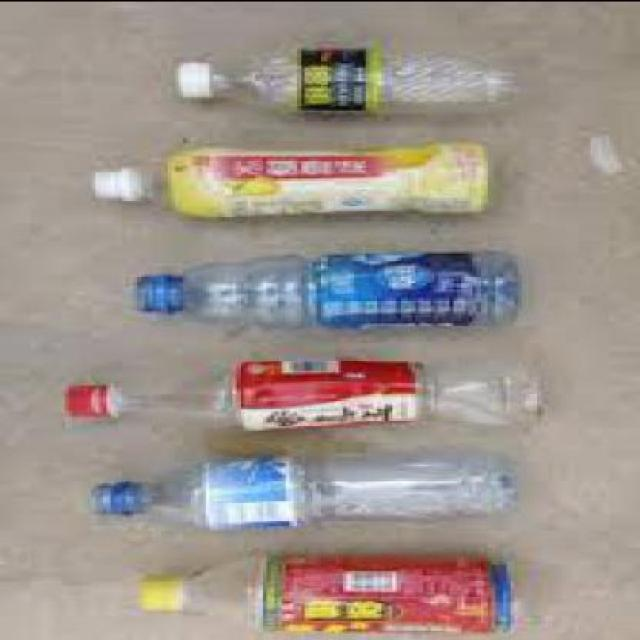PLASTIC: (61, 352, 541, 426), (88, 450, 518, 527), (134, 550, 537, 630), (85, 136, 488, 213), (125, 249, 518, 326), (176, 41, 518, 113), (164, 138, 487, 210), (255, 552, 514, 632), (232, 354, 423, 424), (305, 248, 480, 324), (198, 451, 300, 528), (298, 44, 380, 110), (92, 166, 142, 200), (63, 383, 112, 417), (134, 574, 183, 606), (179, 58, 211, 96)
